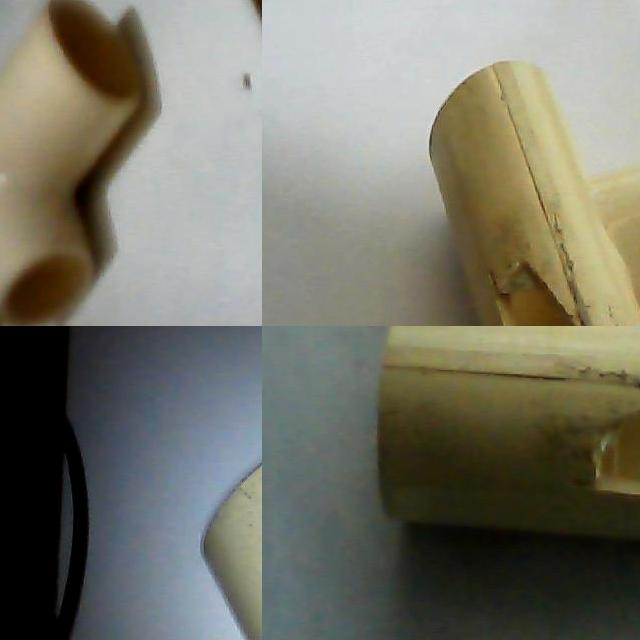Defective: (576, 361, 640, 511), (490, 259, 629, 326)
T Joint: (376, 326, 640, 546), (428, 61, 640, 326), (0, 0, 143, 326)
